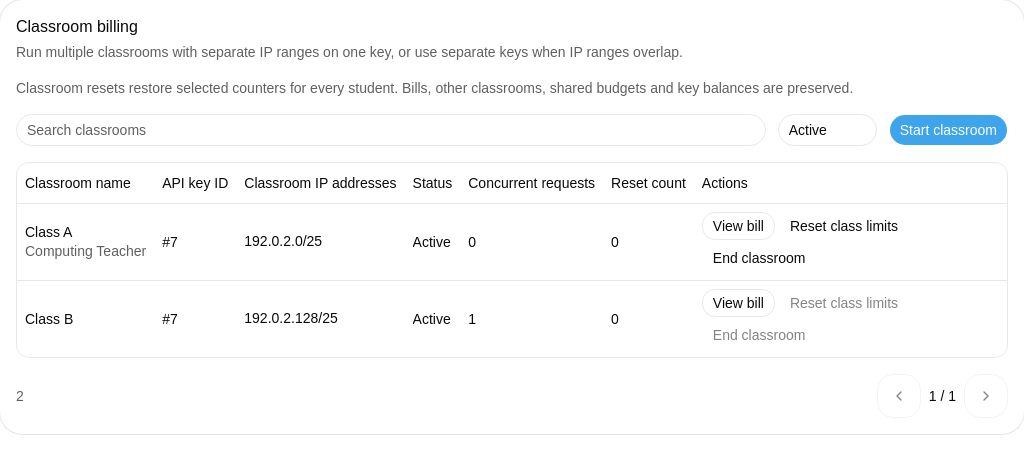
Test: concurrent classroom management › opens archived bills without offering quota resets
Select "Archived" in the dropdown named "Classroom status": (827, 130) [778,114,877,146]
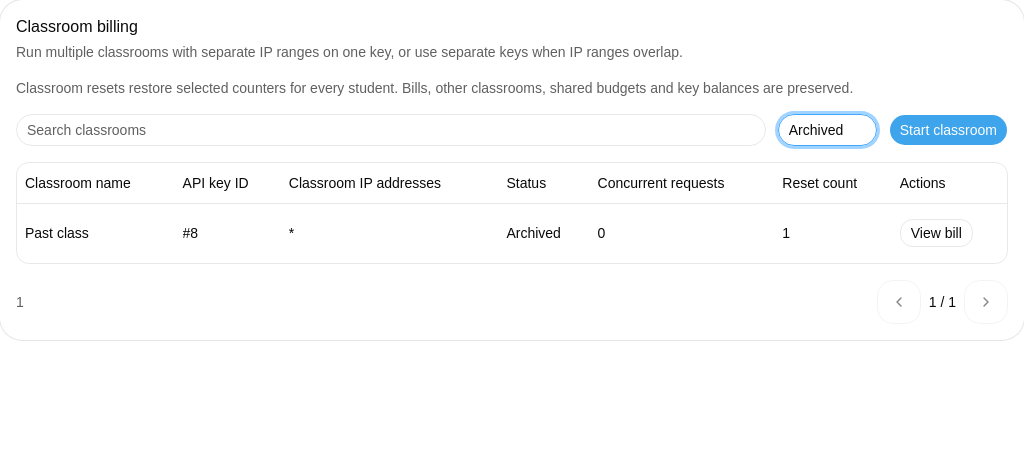
Expected: the text "Class A" is gone
Expected: the text "Past class" is shown, [25,225,89,241]
Expected: the button "Reset class limits" is gone
